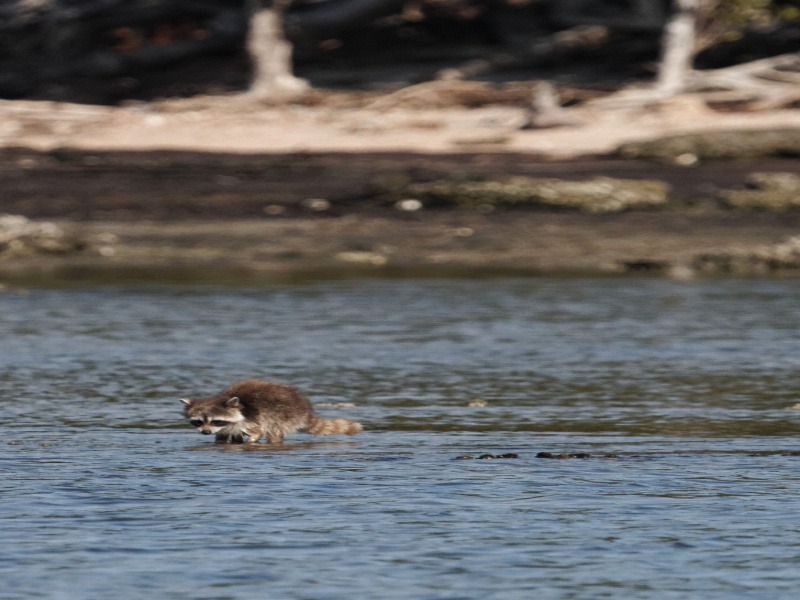raccoon: (179, 378, 365, 448)
